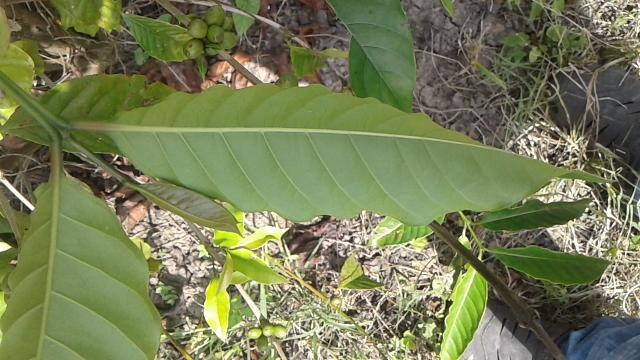healthy: (102, 84, 608, 224)
